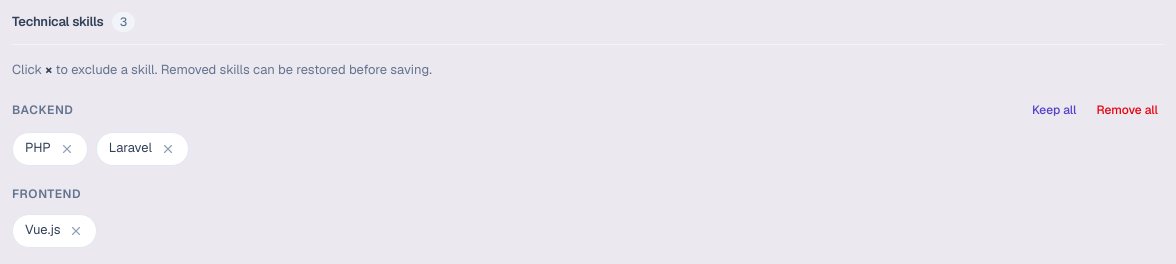
Test case: CvReviewSkills › shows accepted badge and hides buttons after keep all
Click the button "Keep all": (1054, 110) x1=1026 y1=100 x2=1082 y2=120
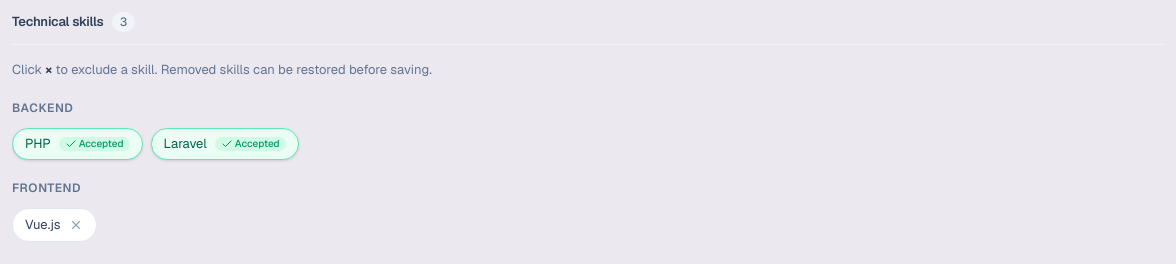
Result: the text "Accepted" is shown at x1=59 y1=137 x2=130 y2=151
